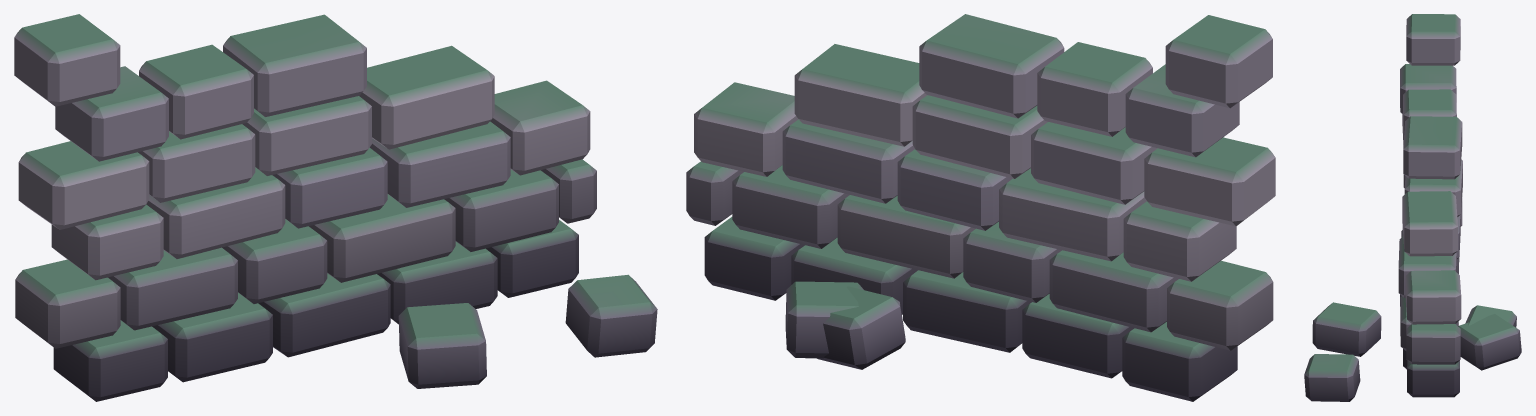
The model's file is ruin_wall.glb.
3 views of the same model, side by side, from view 1: azimuth 30°, elevation 25°; view 2: azimuth 150°, elevation 25°; view 3: azimuth 270°, elevation 25° (orthographic). The views are drawn at different scales.
Visible parts, largest first — view 1: ruin_wall_body; view 2: ruin_wall_body; view 3: ruin_wall_body.
Part boxes in pixels (<box>): ruin_wall_body: <box>14,14,657,401</box>; ruin_wall_body: <box>686,14,1275,401</box>; ruin_wall_body: <box>1304,14,1521,401</box>.
Bounding box in the file's own units: 3.62 × 2.31 × 1.97.
